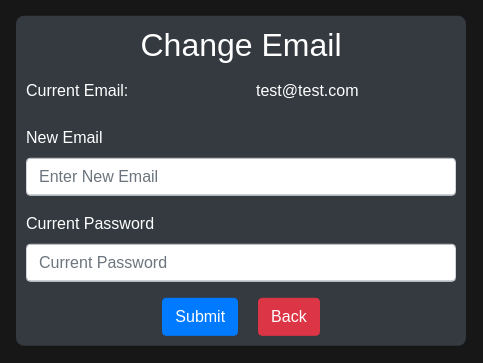
ChangeProfileInfo › Functionality › Change Email › should change the email
Step 1. Type "newName" into the field labelled "New Email" → (241, 177), box [26,158,456,196]
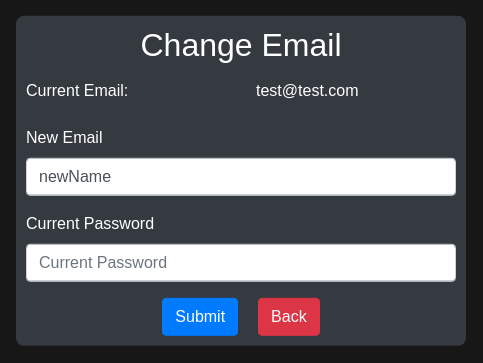
Step 2. Click the button "Submit" → (200, 317), box [162,298,238,336]
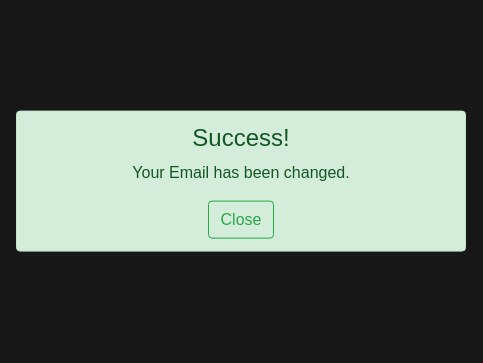
Now the text "Success!" is shown, box [192,124,290,152]
